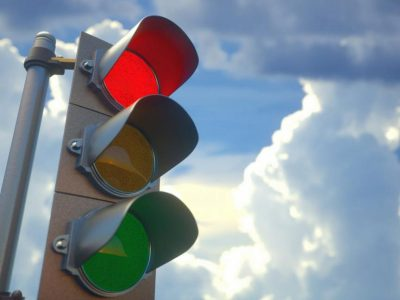trafficlight_red: (76, 25, 192, 300)
